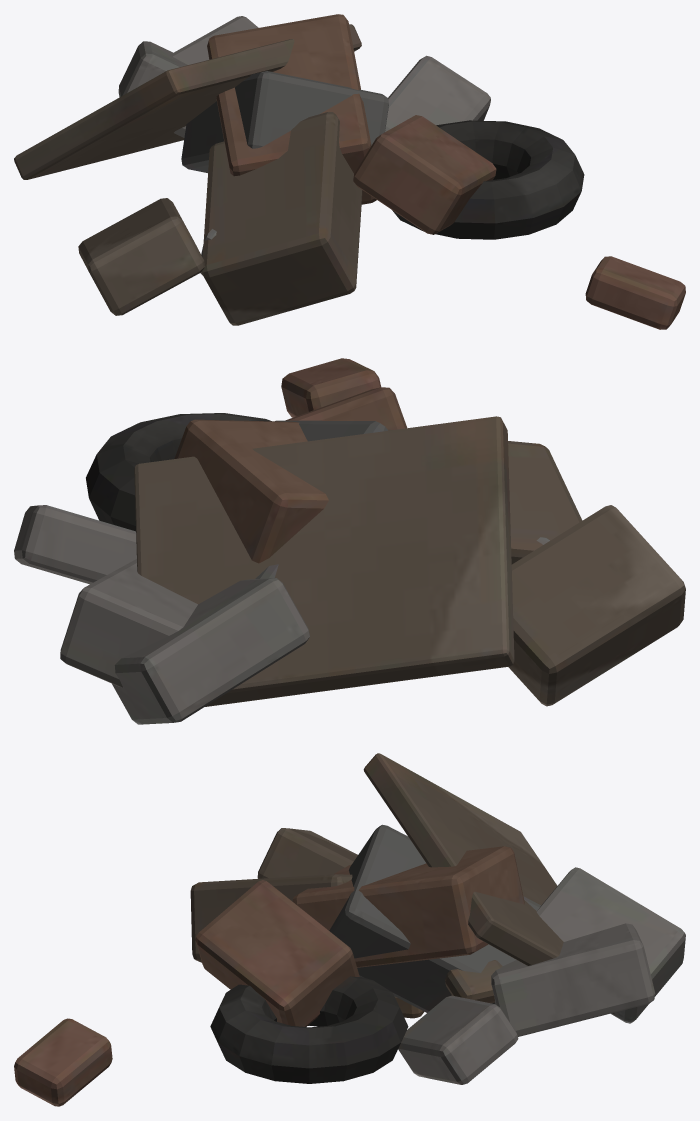
Rendered from prop-junk.glb.
3 renders of one model, top to bottom at view 1: azimuth 30°, elevation 25°; view 2: azimuth 150°, elevation 25°; view 3: azimuth 270°, elevation 25°, orthographic. The views are drawn at different scales.
Parts seen in each view (by area): view 1: prop_junk; view 2: prop_junk; view 3: prop_junk.
Boxes of the visible parts, x1,y1,x2,y2 form: prop_junk: (14, 14, 685, 329); prop_junk: (14, 358, 685, 724); prop_junk: (14, 753, 685, 1106).
Bounding box in the file's own units: 0.6198 × 0.2699 × 0.78.
Materials: 1 (1 with a texture image).
